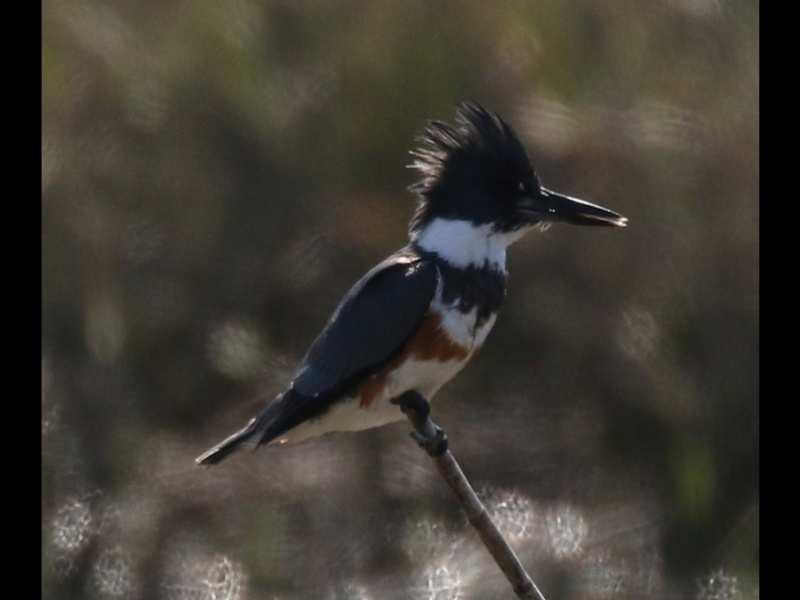kingfisher: (191, 96, 633, 474)
